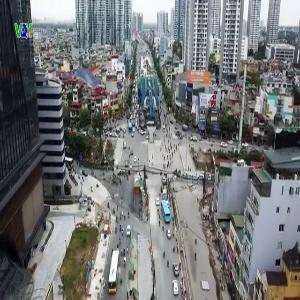drone: (51, 51, 112, 112)
